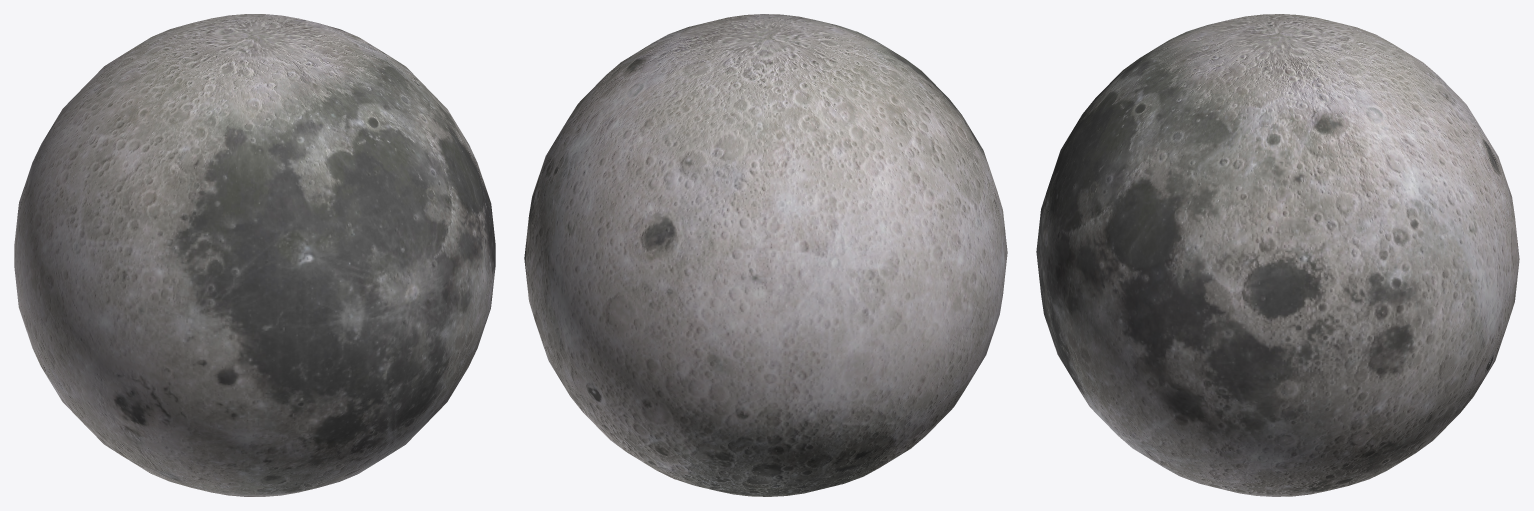
Rendered from bulan.glb.
The picture shows the model from 3 angles, left to right: view 1: azimuth 30°, elevation 25°; view 2: azimuth 150°, elevation 25°; view 3: azimuth 270°, elevation 25°; orthographic projection.
Parts seen in each view (by area): view 1: Moon; view 2: Moon; view 3: Moon.
Boxes of the visible parts, x1,y1,x2,y2 form: Moon: (14, 14, 495, 496); Moon: (524, 14, 1007, 496); Moon: (1036, 14, 1519, 496).
Size of the model in its own units: 3.14 by 3.14 by 3.14.
1 material, 1 textured.
